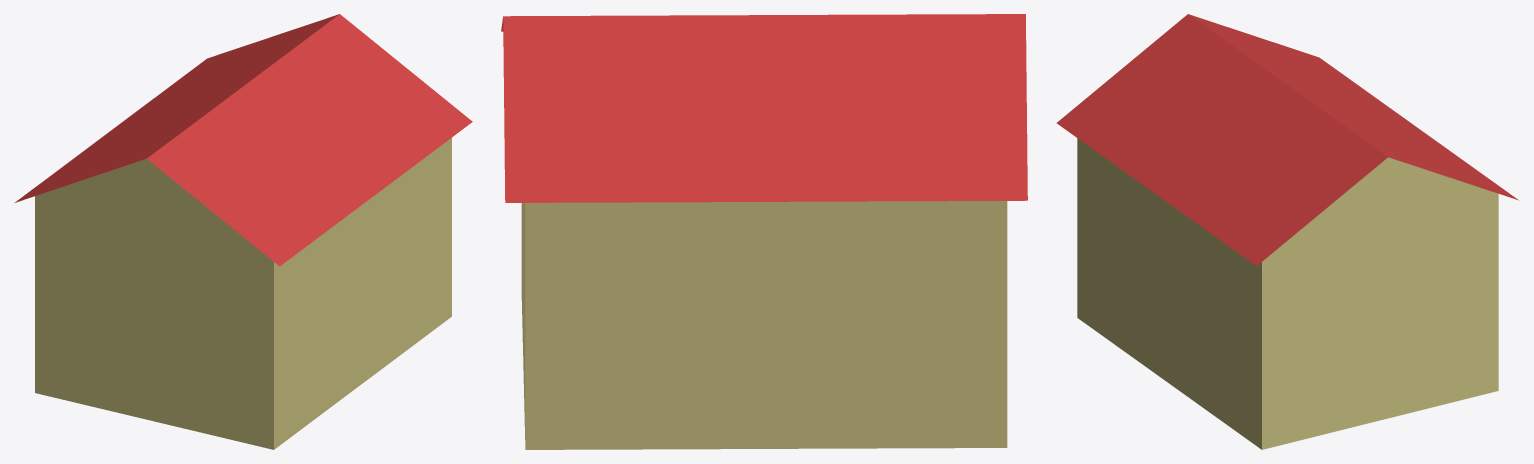
3 views of the same model, side by side, from view 1: azimuth 30°, elevation 25°; view 2: azimuth 150°, elevation 25°; view 3: azimuth 270°, elevation 25° (orthographic). The views are drawn at different scales.
Bounding box in the file's own units: 24.13 × 22.62 × 14.48.
